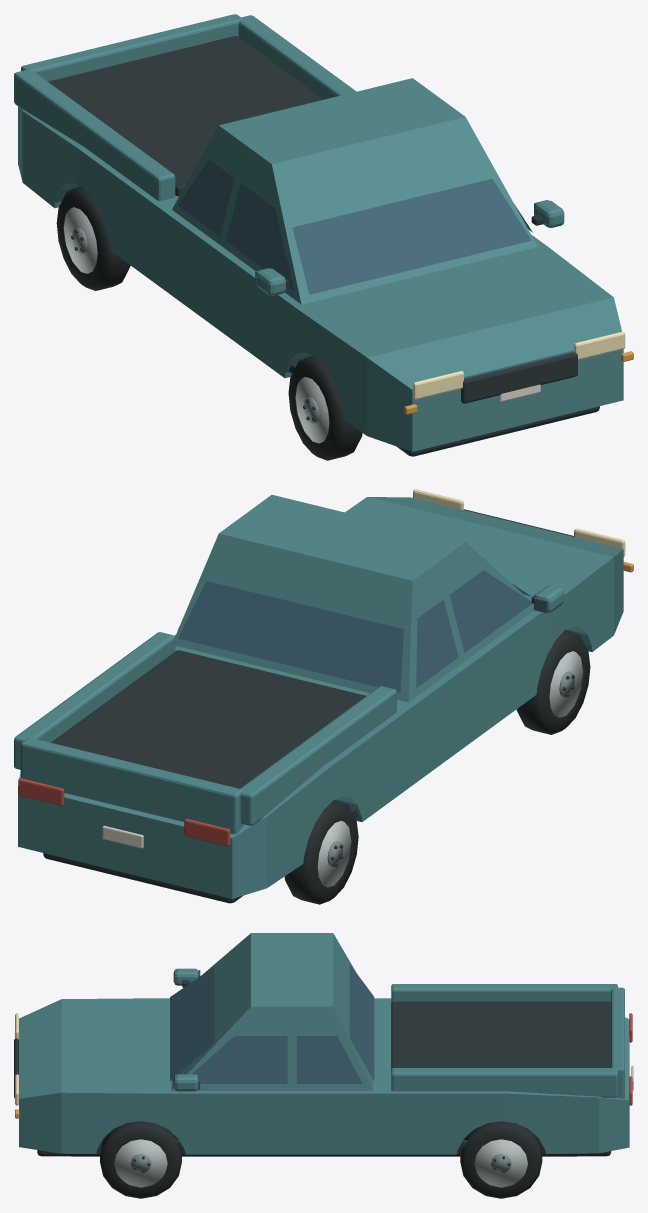
File: original-car-pickup-10.glb
The picture shows the model from 3 angles, top to bottom: view 1: azimuth 30°, elevation 25°; view 2: azimuth 150°, elevation 25°; view 3: azimuth 270°, elevation 25°; orthographic projection. The views are drawn at different scales.
Parts seen in each view (by area): view 1: BodyShell, CabinShell, BedFloor, Windscreen, BedRail, Tailgate, WindowFront, BedRail.001, Tyre_FR, Tyre_RR, Grille, WindowRear (+7 smaller); view 2: BodyShell, CabinShell, BedFloor, RearGlass, Tailgate, BedRail, BedRail.001, WindowFront, Tyre_RR, Tyre_FR, WindowRear, Rim_FR (+5 smaller); view 3: BodyShell, CabinShell, BedFloor, BedRail.001, BedRail, WindowFront.001, Windscreen, Tyre_FL, Tyre_RL, WindowRear.001, RearGlass, Rim_RL (+4 smaller).
Part boxes in pixels (bbox=[...]): BodyShell: bbox=[18, 106, 623, 451]; CabinShell: bbox=[172, 78, 537, 304]; BedFloor: bbox=[48, 36, 323, 196]; Windscreen: bbox=[292, 178, 531, 294]; BedRail: bbox=[14, 70, 175, 200]; Tailgate: bbox=[21, 14, 242, 81]; WindowFront: bbox=[226, 183, 294, 290]; BedRail.001: bbox=[238, 15, 356, 99]; Tyre_FR: bbox=[288, 356, 362, 460]; Tyre_RR: bbox=[56, 186, 130, 290]; Grille: bbox=[461, 352, 577, 403]; WindowRear: bbox=[177, 159, 234, 236]; BodyShell: bbox=[18, 497, 623, 898]; CabinShell: bbox=[175, 495, 534, 702]; BedFloor: bbox=[51, 650, 365, 788]; RearGlass: bbox=[178, 581, 403, 692]; Tailgate: bbox=[21, 737, 243, 834]; BedRail: bbox=[240, 686, 396, 825]; BedRail.001: bbox=[14, 632, 175, 769]; WindowFront: bbox=[449, 570, 531, 652]; Tyre_RR: bbox=[284, 800, 358, 904]; Tyre_FR: bbox=[516, 630, 590, 734]; WindowRear: bbox=[416, 599, 458, 688]; Rim_FR: bbox=[549, 651, 583, 717]; BodyShell: bbox=[19, 998, 629, 1154]; CabinShell: bbox=[171, 933, 372, 1090]; BedFloor: bbox=[391, 1001, 611, 1069]; BedRail.001: bbox=[391, 1068, 617, 1097]; BedRail: bbox=[391, 984, 617, 1002]; WindowFront.001: bbox=[192, 1036, 287, 1083]; Windscreen: bbox=[170, 967, 214, 1080]; Tyre_FL: bbox=[100, 1121, 181, 1198]; Tyre_RL: bbox=[460, 1121, 542, 1198]; WindowRear.001: bbox=[296, 1036, 362, 1083]; RearGlass: bbox=[349, 964, 374, 1080]; Rim_RL: bbox=[474, 1139, 527, 1187].
Bounding box in the file's own units: 2.33 × 1.76 × 5.43.
